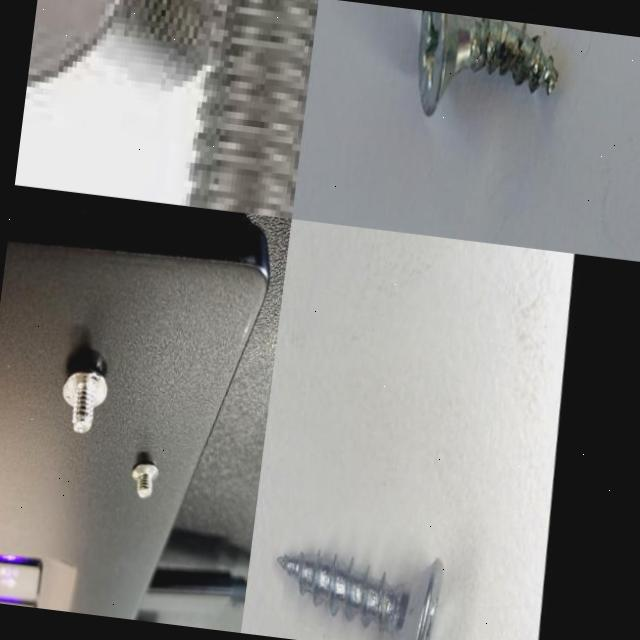Screw: (180, 0, 318, 219), (27, 0, 225, 86), (418, 10, 558, 117), (277, 551, 443, 640), (52, 360, 114, 440), (125, 455, 162, 504)
